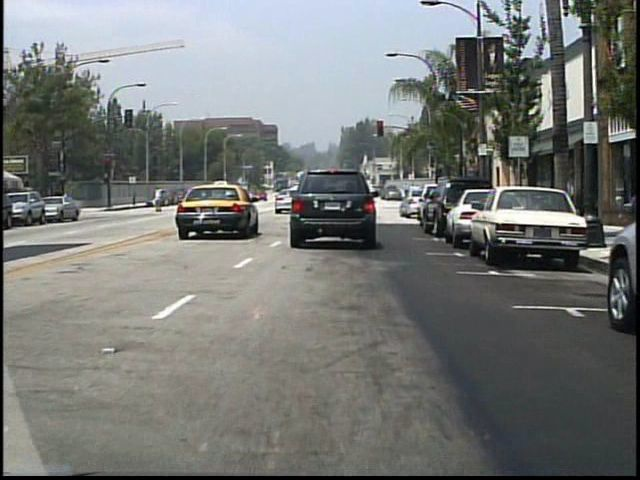person: (364, 185, 381, 216), (152, 185, 167, 213)
